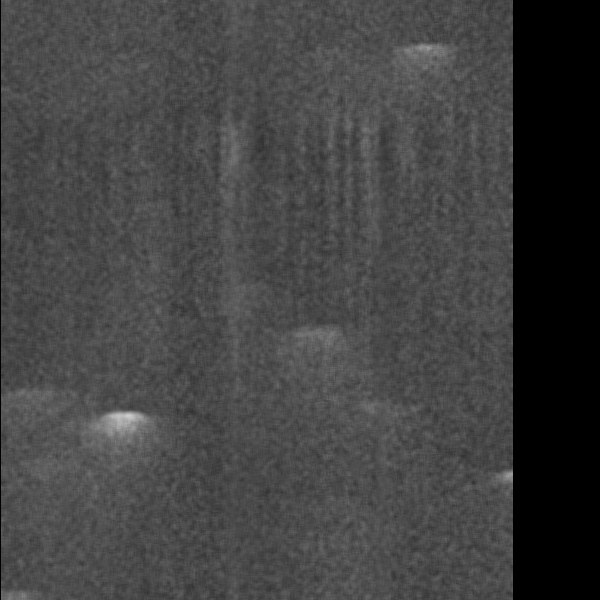spark: (353, 326, 444, 410), (322, 422, 405, 457), (75, 422, 134, 460), (344, 111, 377, 166), (466, 275, 495, 297)
